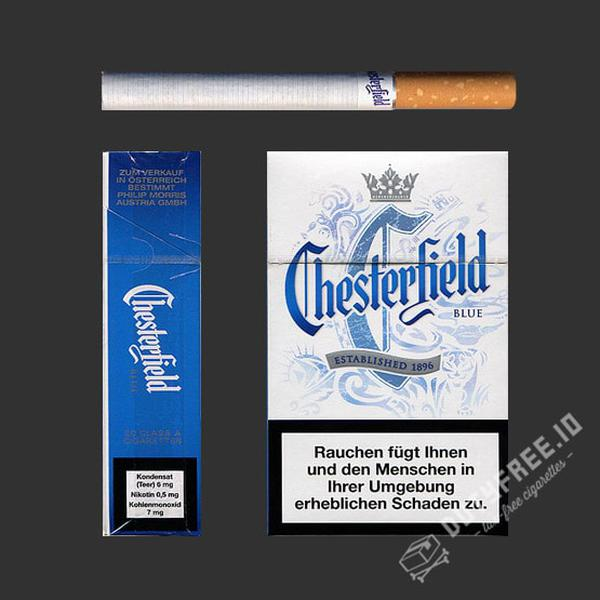chesterfield_blue: (267, 152, 507, 537)
